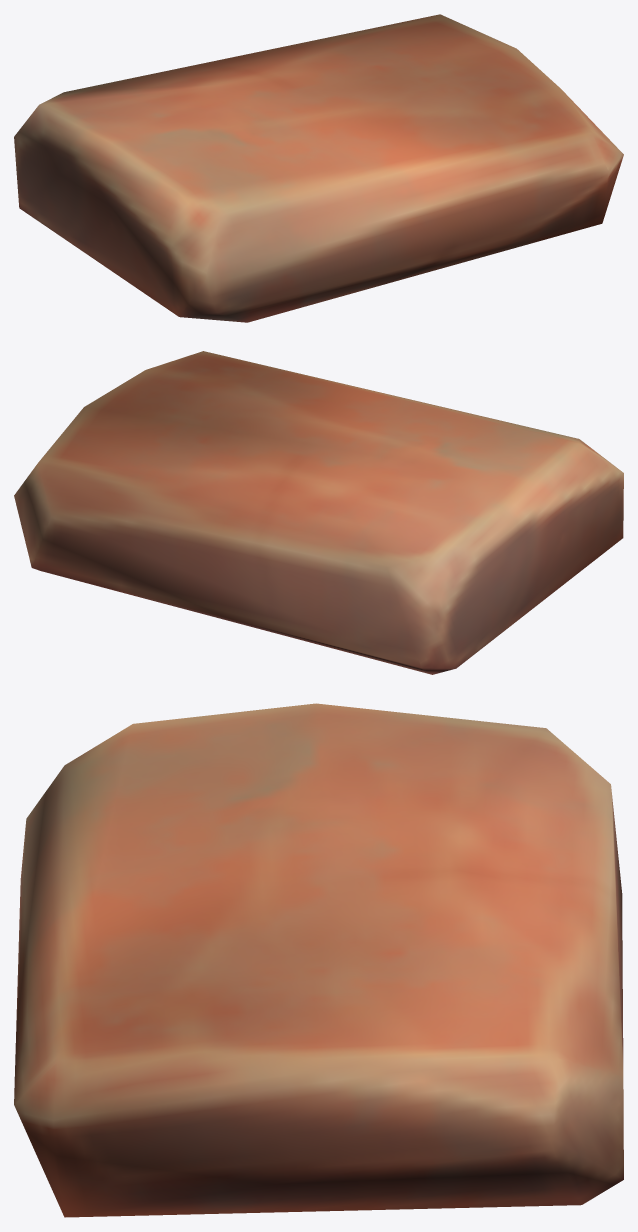
The model's file is SM_Gem_Copper_Piece_001.fbx.
The picture shows the model from 3 angles, top to bottom: view 1: azimuth 30°, elevation 25°; view 2: azimuth 150°, elevation 25°; view 3: azimuth 270°, elevation 25°; orthographic projection. The views are drawn at different scales.
Visible parts, largest first — view 1: SM_Gem_Copper_Piece_001; view 2: SM_Gem_Copper_Piece_001; view 3: SM_Gem_Copper_Piece_001.
Boxes of the visible parts, box(x1,y1,x2,y2) form: SM_Gem_Copper_Piece_001: box(14, 14, 623, 322); SM_Gem_Copper_Piece_001: box(14, 351, 623, 674); SM_Gem_Copper_Piece_001: box(14, 703, 623, 1217).
Size of the model in its own units: 21.9 by 6.17 by 16.2.
